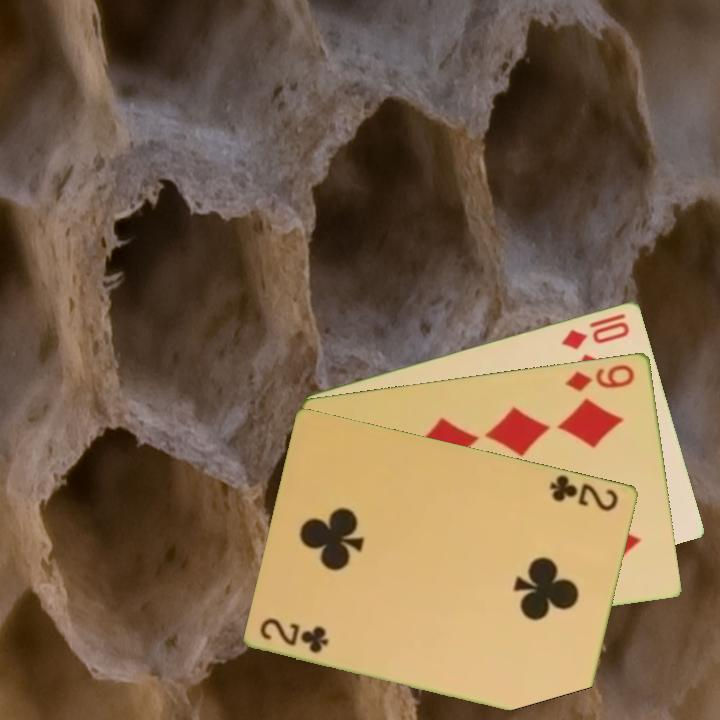10d: (558, 317, 633, 352)
2c: (546, 471, 622, 514), (257, 614, 332, 656)
9d: (562, 360, 638, 394)
